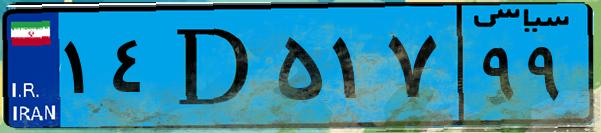1: (330, 28, 385, 110), (57, 26, 110, 100)
4: (110, 28, 158, 98)
5: (270, 28, 330, 110)
7: (385, 28, 445, 110)
9: (475, 38, 525, 113), (525, 38, 570, 115)
D: (158, 12, 270, 120)
